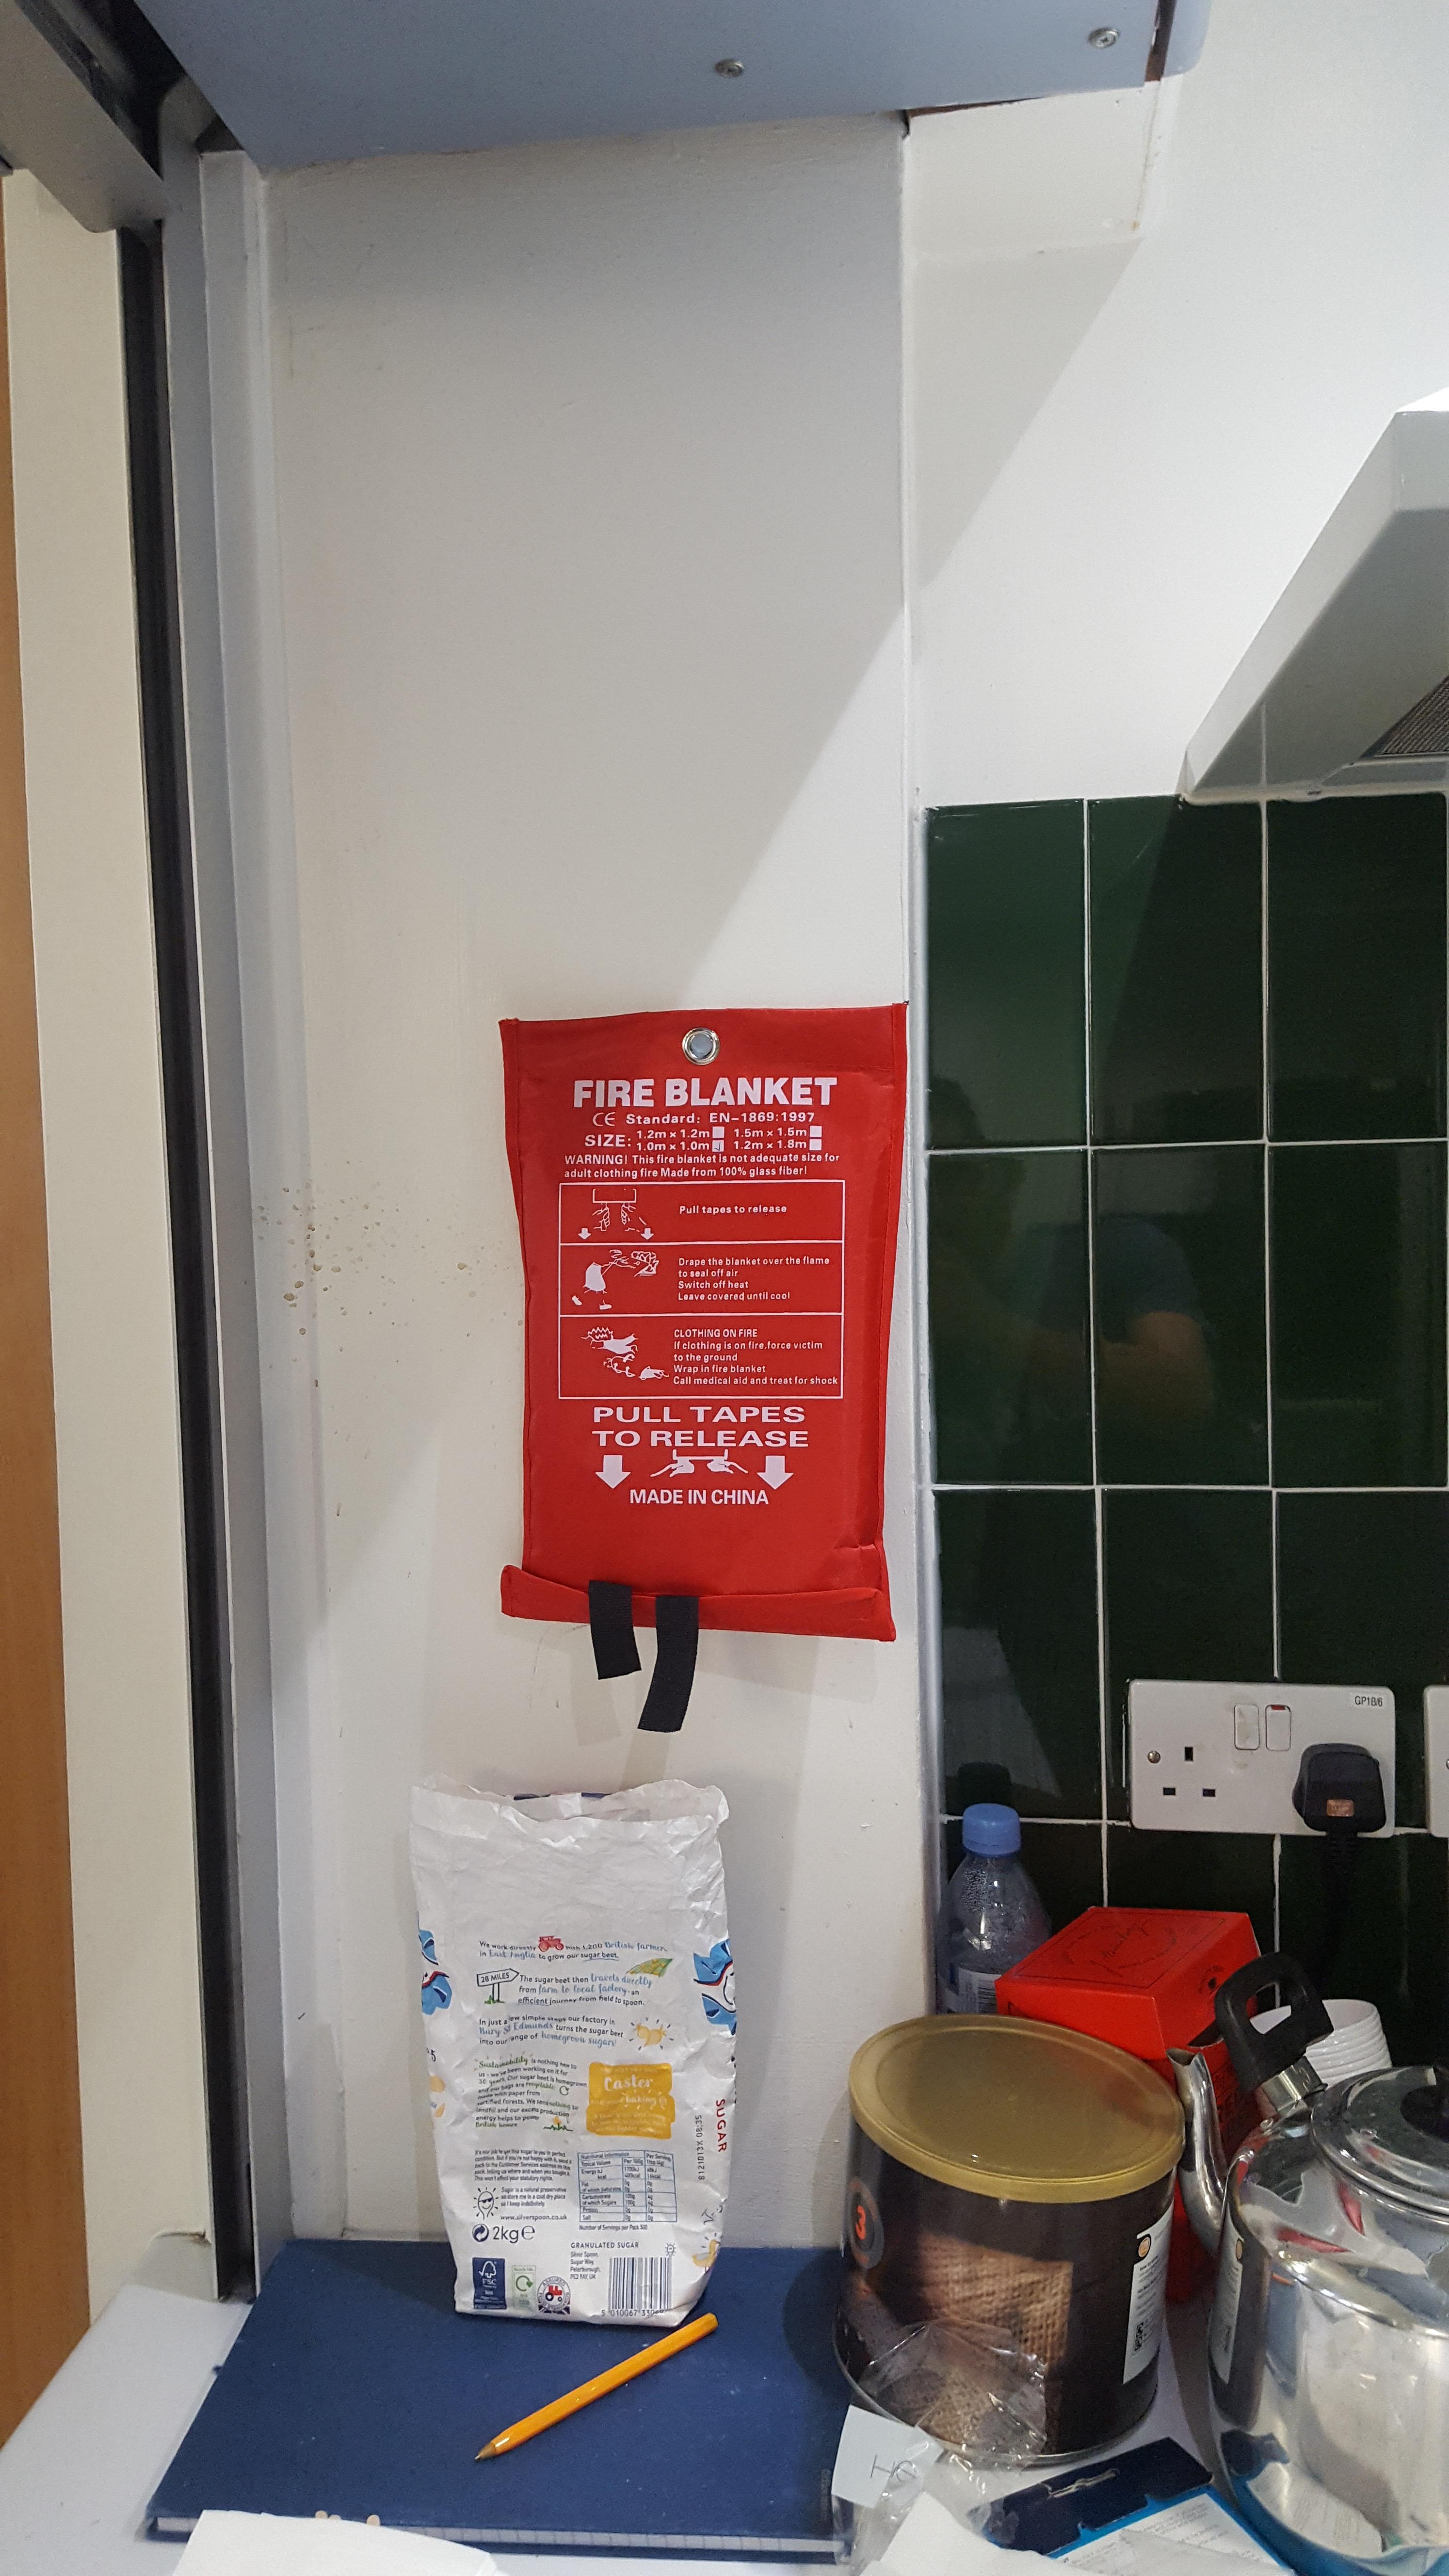blanket: (497, 996, 908, 1640)
